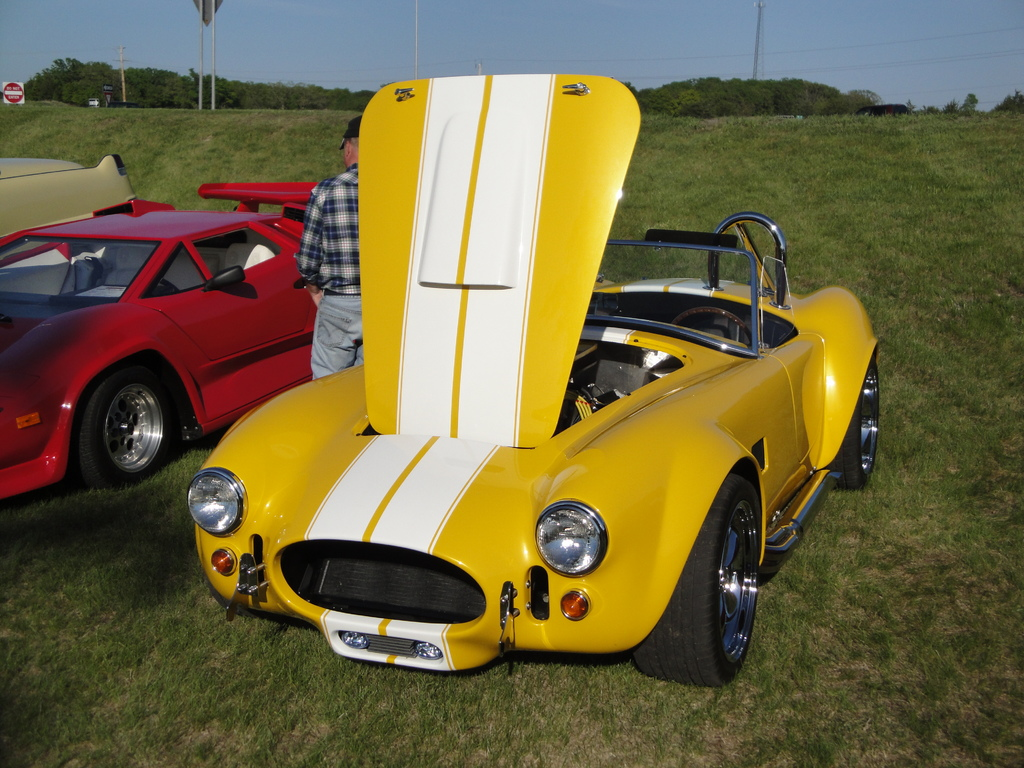Car: (183, 72, 885, 695), (0, 172, 324, 489), (0, 159, 136, 201)
